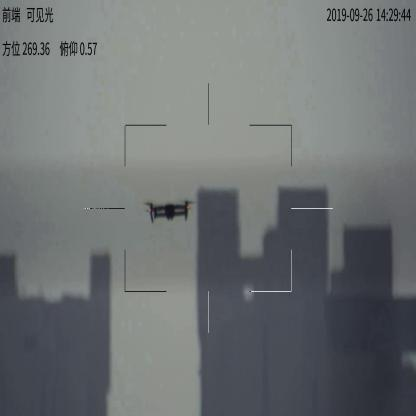uav: (142, 196, 199, 224)
